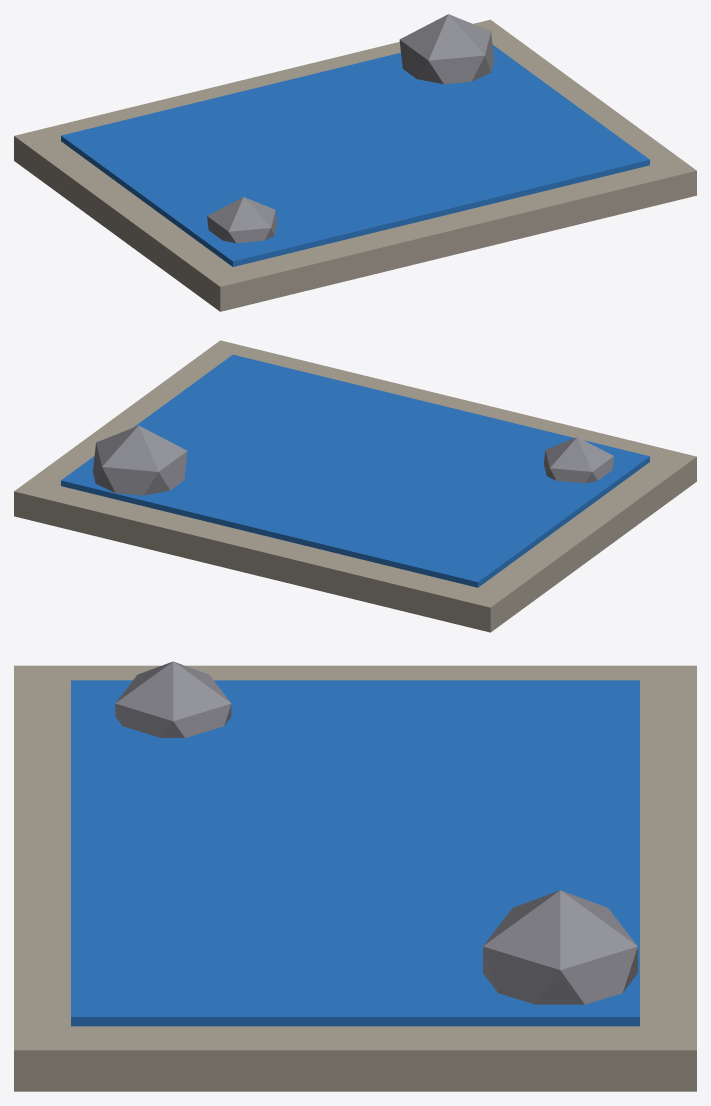
The model's file is pond_pool.glb.
3 renders of one model, top to bottom at view 1: azimuth 30°, elevation 25°; view 2: azimuth 150°, elevation 25°; view 3: azimuth 270°, elevation 25°, orthographic. The views are drawn at different scales.
Parts seen in each view (by area): view 1: pond_pool; view 2: pond_pool; view 3: pond_pool.
Boxes of the visible parts, x1,y1,x2,y2 form: pond_pool: (14, 14, 696, 311); pond_pool: (14, 340, 696, 632); pond_pool: (14, 661, 696, 1091).
Bounding box in the file's own units: 4 × 0.8 × 3.
